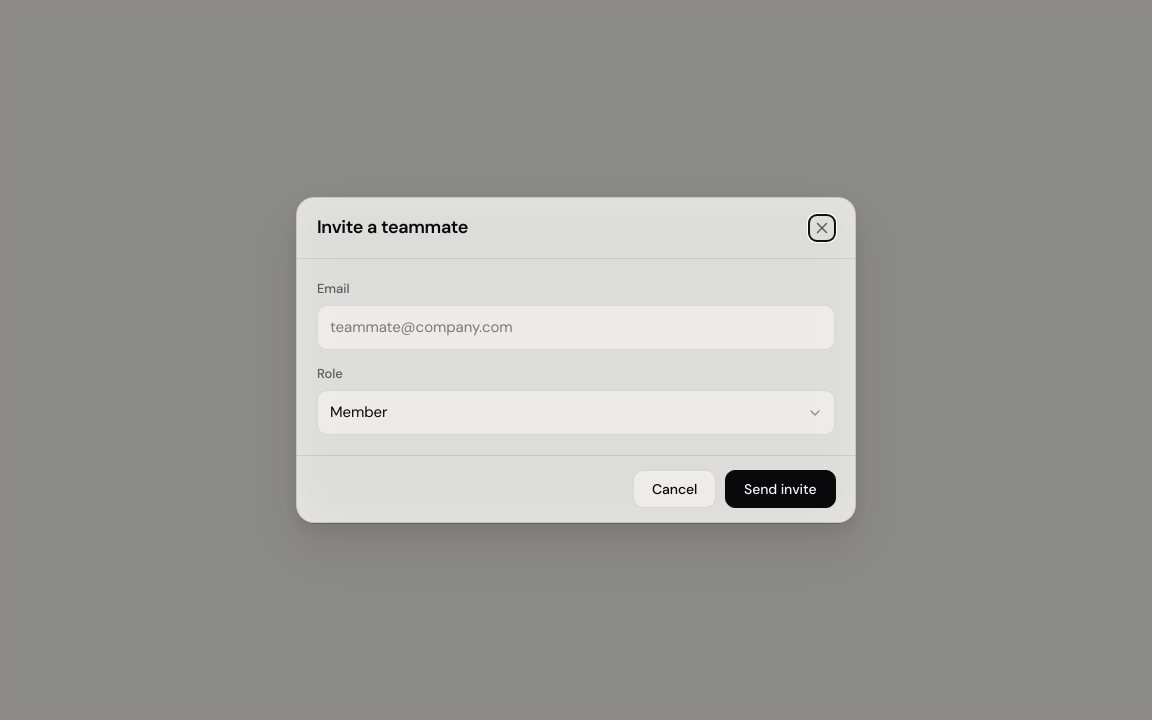
Test case: InviteTeammateModal › surfaces an inline error on 409 ALREADY_MEMBER
Type "a@b.com" into the field labelled "Email" at (576, 327), box [317, 305, 835, 350]
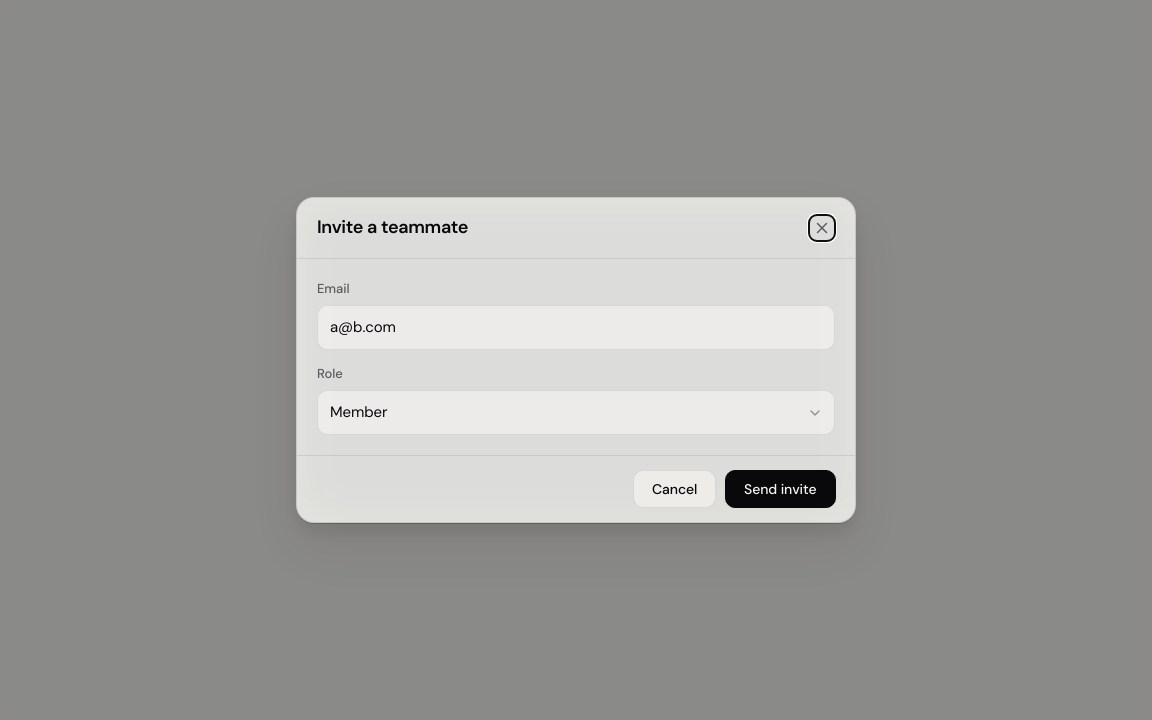
Click the button "Send invite" at (780, 489), box [724, 470, 835, 508]
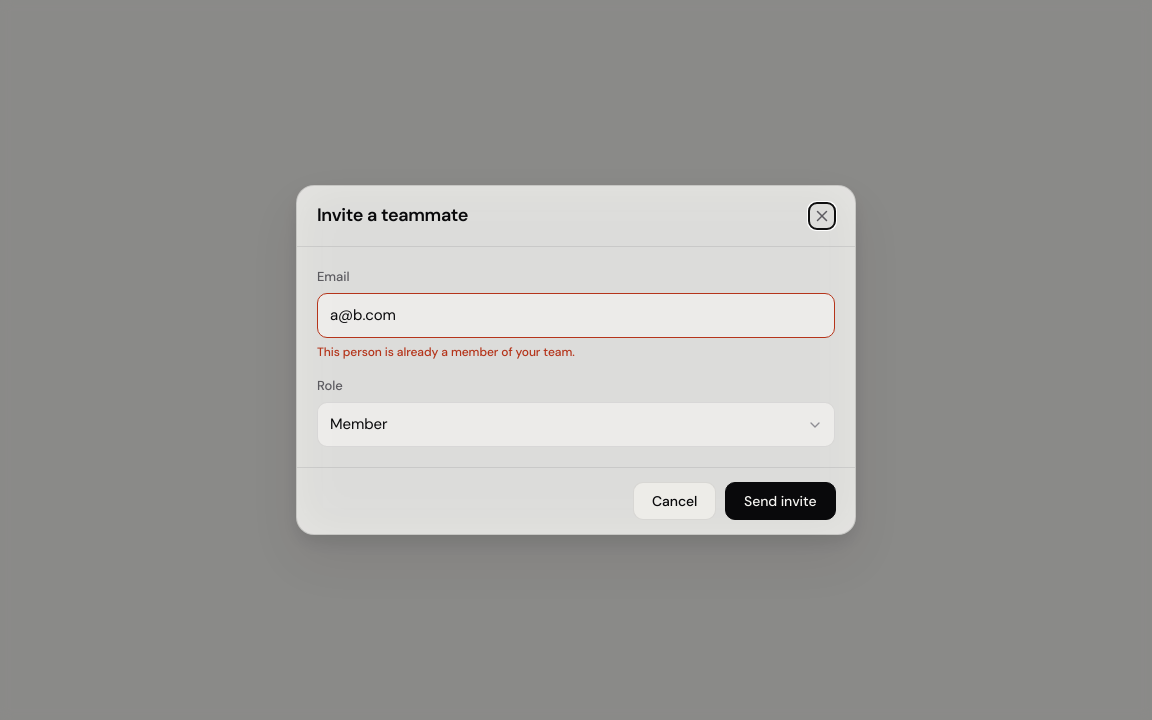
Result: the text "This person is already a member of your team." is shown at [317, 344, 575, 360]
